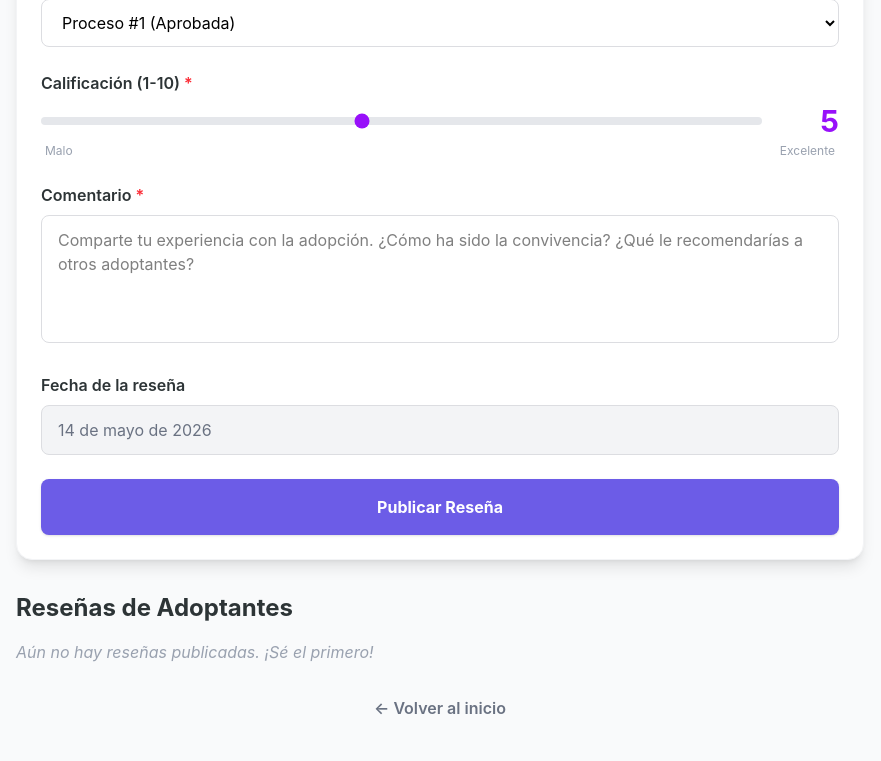
Test case: CreateReviewScreen – Unit Tests › shows error when submitting without a comment
(page scrolled)
Click the button "Publicar Reseña": [440, 507] box [41,479,839,535]
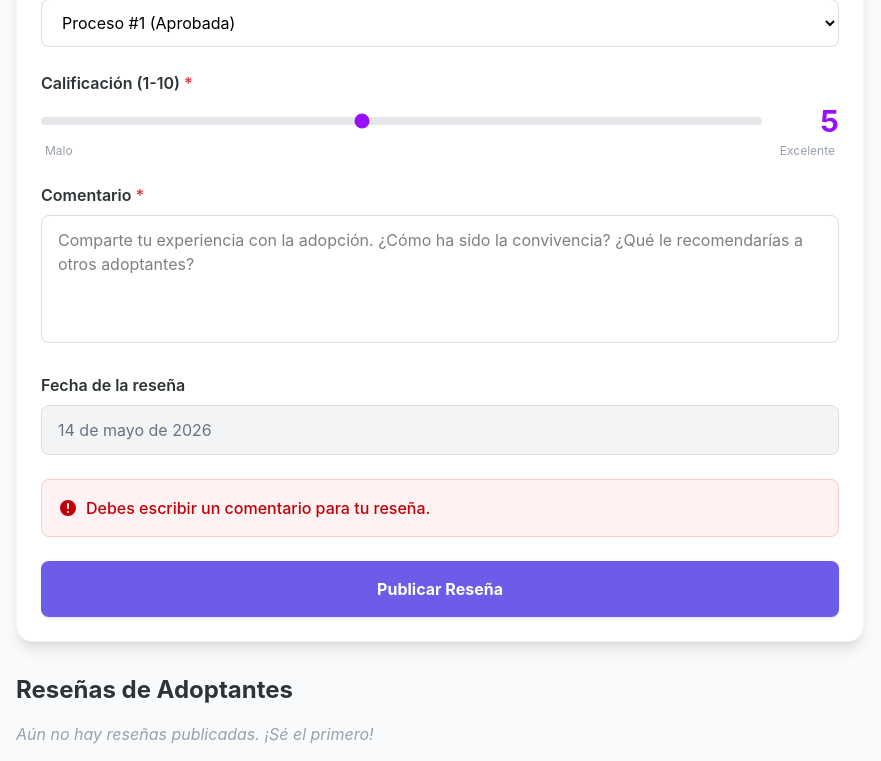
Now the text "Debes escribir un comentario para tu reseña." is shown, box [41,479,839,537]
